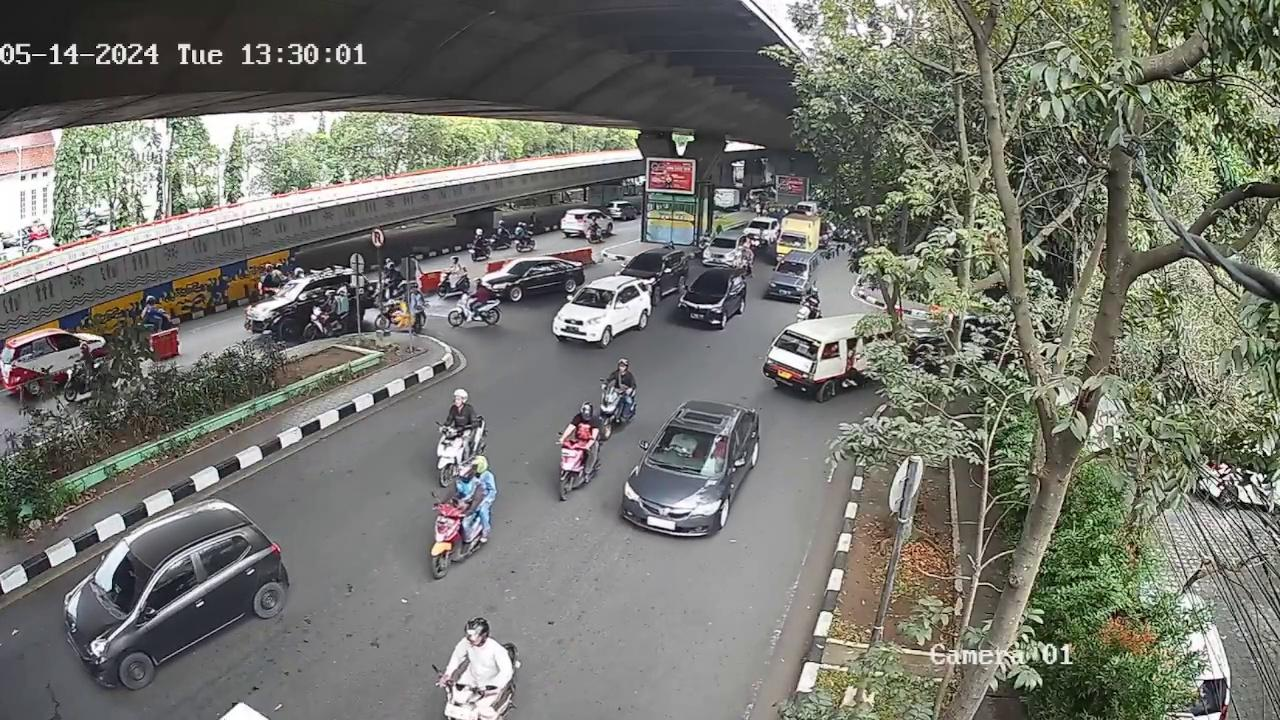tidak-pakai: (668, 432, 693, 464)
windshield: (646, 424, 726, 477), (575, 283, 615, 307)
